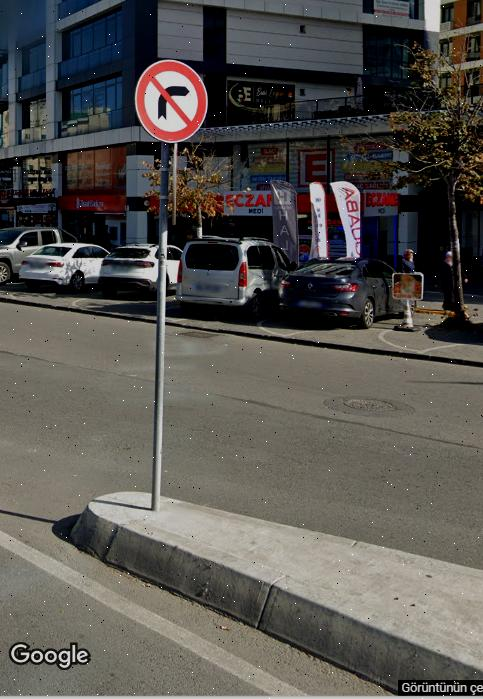rightturnsareforbidden: (137, 62, 206, 135)
